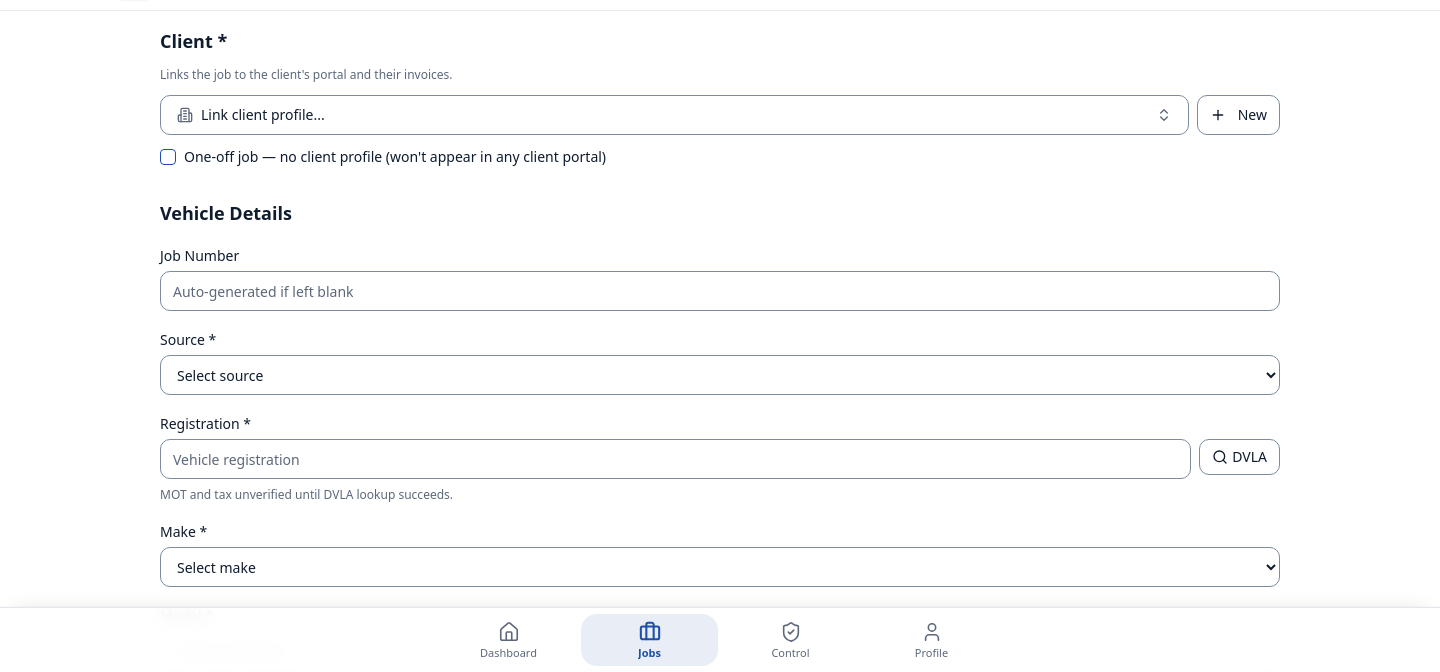
Test: JobForm source › choosing a source satisfies the requirement
Select "Movex" in the dropdown labelled "Source *" at (720, 375), box x1=160 y1=355 x2=1280 y2=395
(page scrolled)
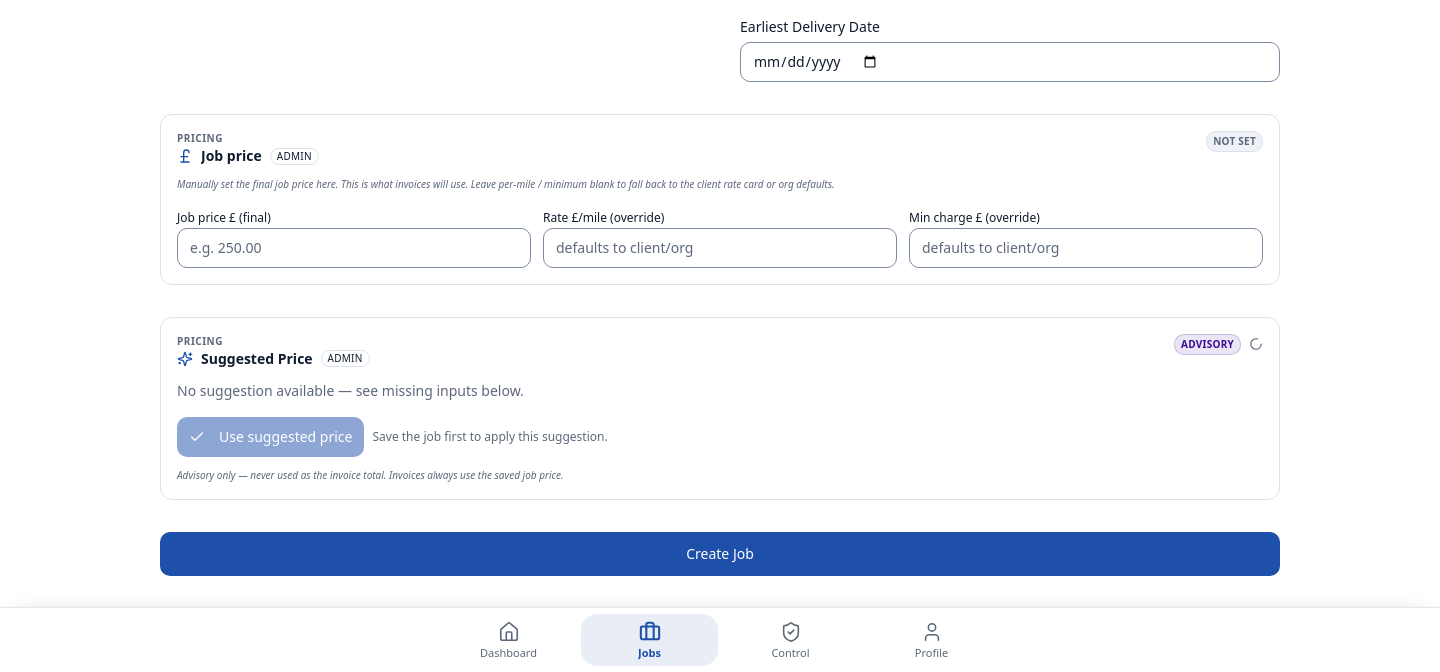
Click the button "Create Job".
click(720, 554)  # box x1=160 y1=532 x2=1280 y2=576
(page scrolled)
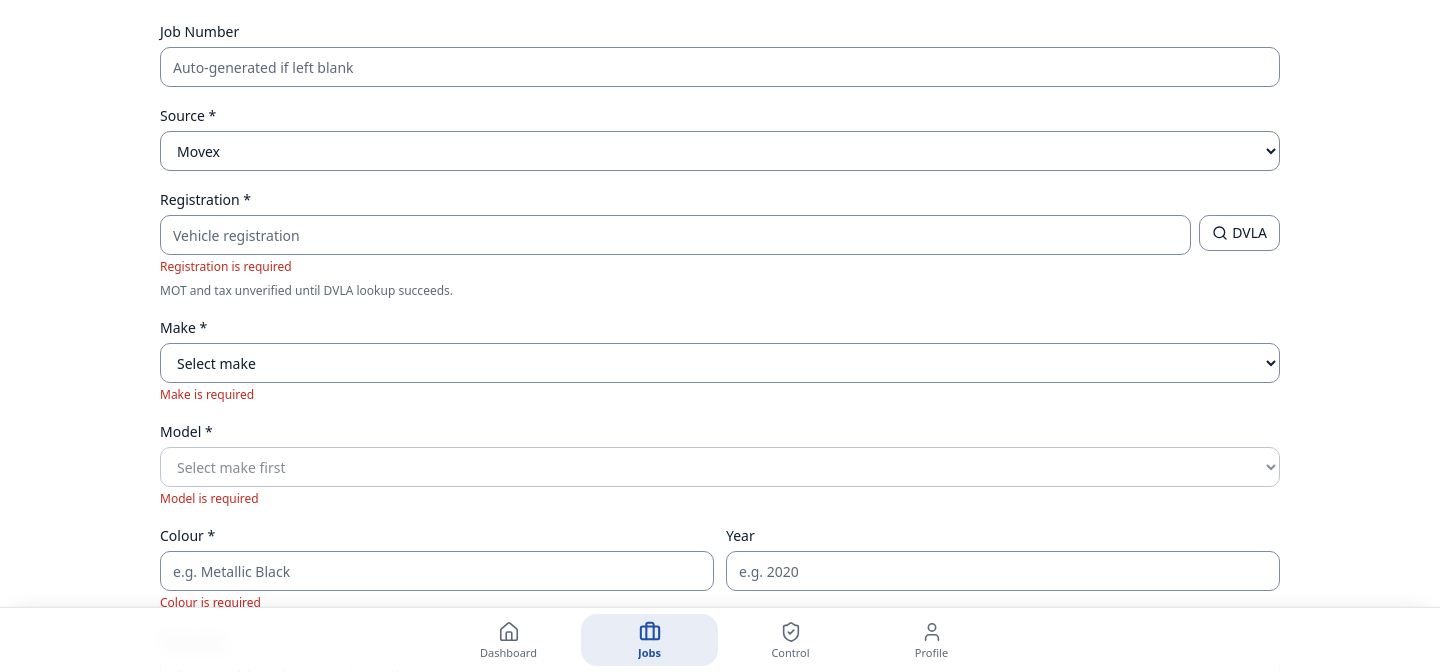
expect the text "Registration is required" is shown: met, box x1=160 y1=258 x2=292 y2=275
